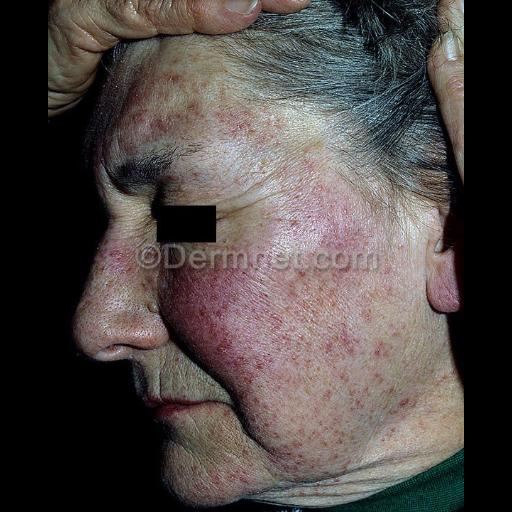Skin_Lesion: (174, 285, 228, 341), (298, 409, 342, 451), (135, 108, 175, 144), (219, 113, 261, 143), (272, 308, 306, 342), (326, 226, 360, 258), (350, 290, 380, 320), (370, 339, 398, 367), (398, 390, 420, 416), (344, 336, 362, 362), (286, 210, 302, 236), (109, 245, 125, 267), (306, 358, 320, 378), (324, 333, 336, 353)
